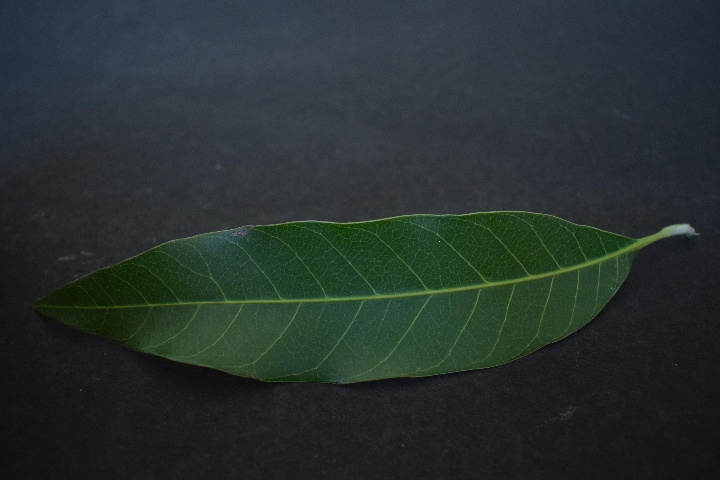healthy: (64, 205, 654, 387)
